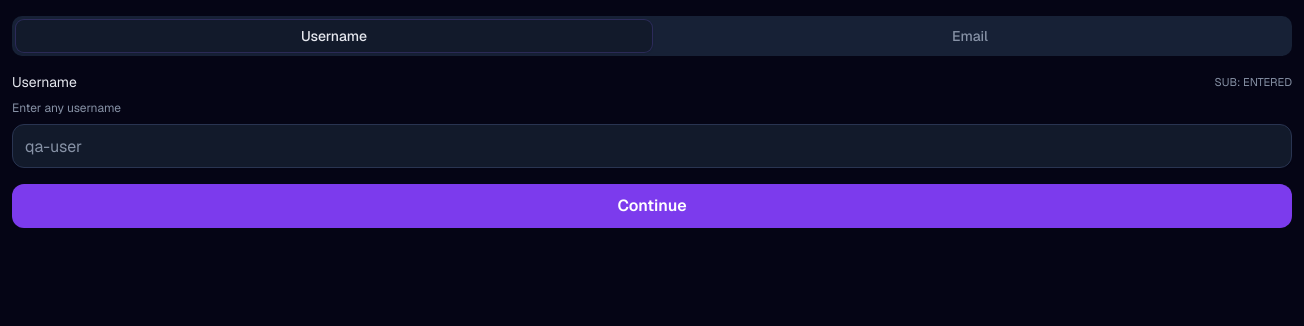
Scenario: LoginForm › renders tabs and toggles the active strategy
Step 1. Click the tab "Email" → click(970, 36), box x1=652 y1=20 x2=1288 y2=52
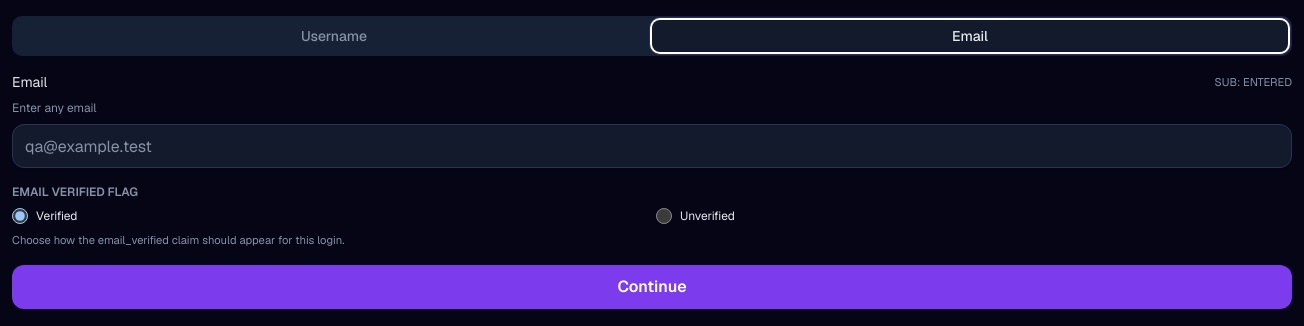
Expected: the field with test id "login-email-input" is enabled, x1=12 y1=124 x2=1292 y2=168
Expected: the field with test id "login-username-input" is gone
Step 2. Click the radio button labelled "Unverified" → click(664, 216), box x1=656 y1=208 x2=672 y2=224
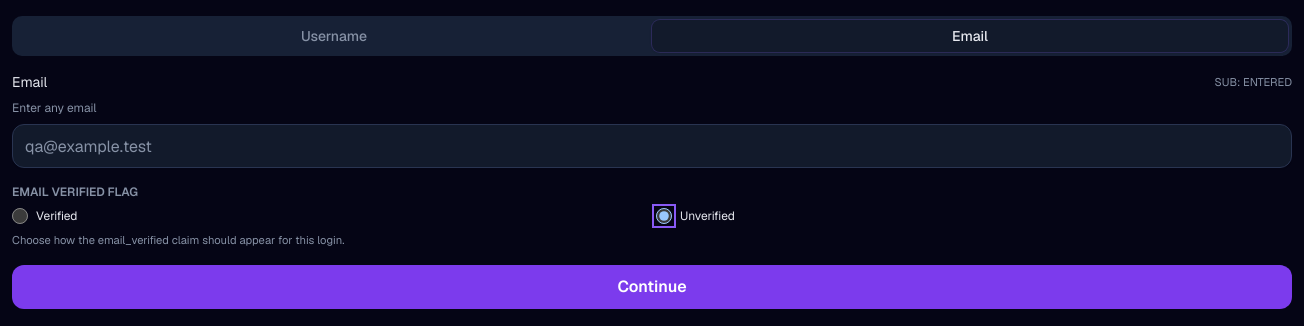
Expected: the radio button labelled "Unverified" is checked, x1=656 y1=208 x2=672 y2=224
Step 3. Click the tab "Username" → click(334, 36), box x1=16 y1=20 x2=652 y2=52
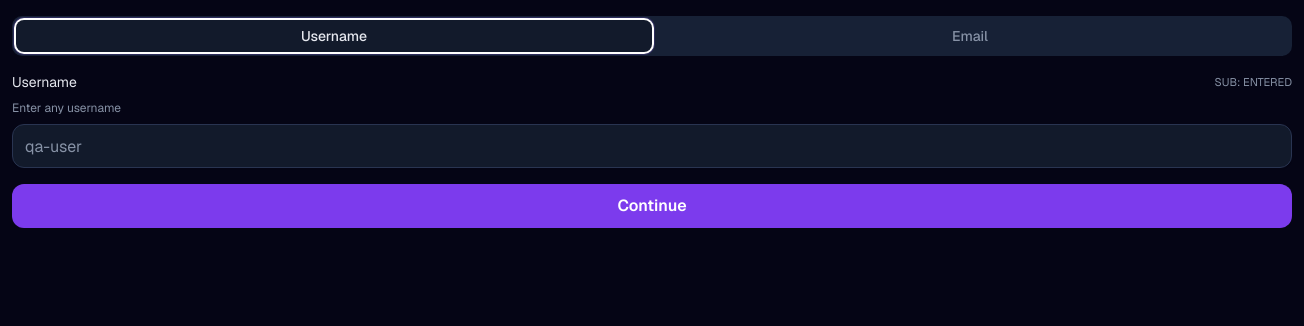
Expected: the field with test id "login-username-input" is enabled, x1=12 y1=124 x2=1292 y2=168
